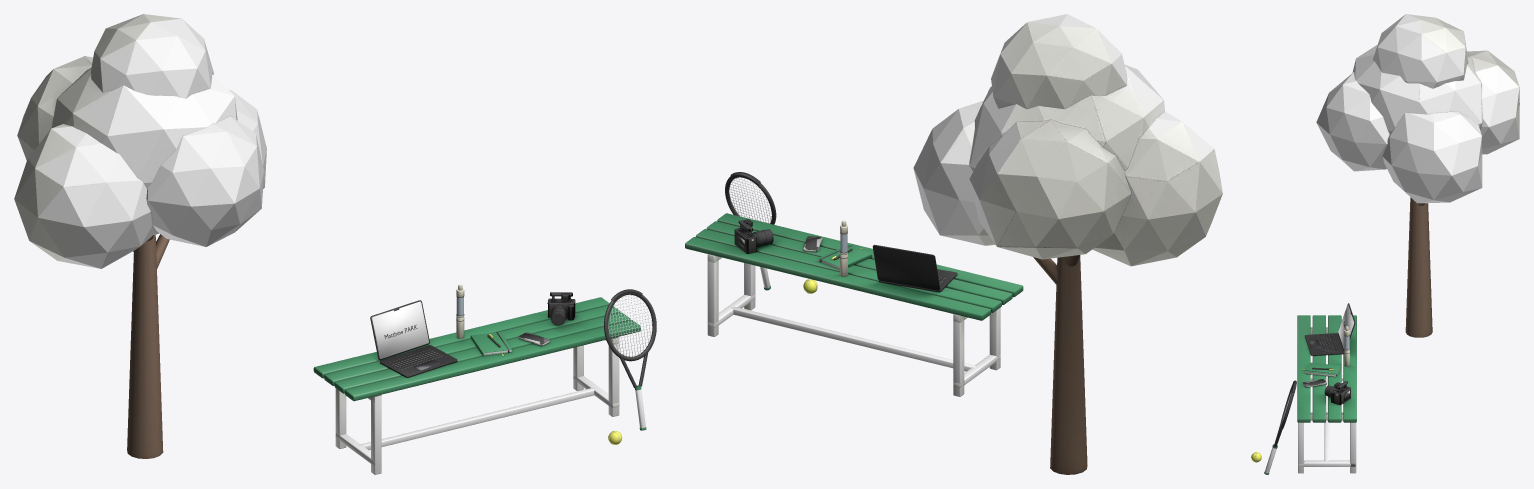
The model's file is gear.glb.
The picture shows the model from 3 angles, left to right: view 1: azimuth 30°, elevation 25°; view 2: azimuth 150°, elevation 25°; view 3: azimuth 270°, elevation 25°; orthographic projection. The views are drawn at different scales.
Parts seen in each view (by area): view 1: bench, canopy_2, canopy_3, canopy_0, canopy_5, trunk, macbook, canopy_4, racket, canopy_1, fx30, journal; view 2: canopy_4, bench, canopy_2, canopy_5, canopy_0, trunk, canopy_1, macbook, racket, fx30, journal; view 3: canopy_1, bench, canopy_5, canopy_0, canopy_3, canopy_4, trunk, macbook, racket, fx30, journal.
Boxes of the visible parts, x1,y1,x2,y2 form: bench: [313, 297, 640, 474]; canopy_2: [14, 124, 157, 268]; canopy_3: [146, 116, 264, 246]; canopy_0: [52, 67, 237, 234]; canopy_5: [91, 14, 214, 98]; trunk: [127, 234, 169, 458]; macbook: [370, 300, 457, 377]; canopy_4: [17, 56, 93, 160]; racket: [604, 289, 656, 430]; canopy_1: [229, 89, 266, 188]; fx30: [547, 292, 575, 325]; journal: [470, 332, 512, 355]; canopy_4: [969, 119, 1131, 259]; bench: [685, 213, 1023, 396]; canopy_2: [1092, 111, 1222, 266]; canopy_5: [991, 14, 1126, 108]; canopy_0: [969, 65, 1164, 172]; trunk: [1033, 255, 1087, 474]; canopy_1: [913, 101, 995, 245]; macbook: [872, 244, 957, 292]; racket: [725, 172, 776, 290]; fx30: [734, 219, 773, 253]; journal: [818, 244, 871, 269]; canopy_1: [1382, 111, 1482, 203]; bench: [1297, 315, 1356, 473]; canopy_5: [1373, 14, 1468, 88]; canopy_0: [1352, 44, 1482, 133]; canopy_3: [1316, 72, 1389, 171]; canopy_4: [1467, 50, 1519, 154]; trunk: [1405, 197, 1432, 337]; macbook: [1304, 303, 1355, 355]; racket: [1264, 380, 1296, 474]; fx30: [1324, 381, 1350, 405]; journal: [1302, 362, 1341, 377].
Size of what is drawn, in the model's own units: 3.05 by 2.26 by 1.75.
15 materials, 15 textured.
